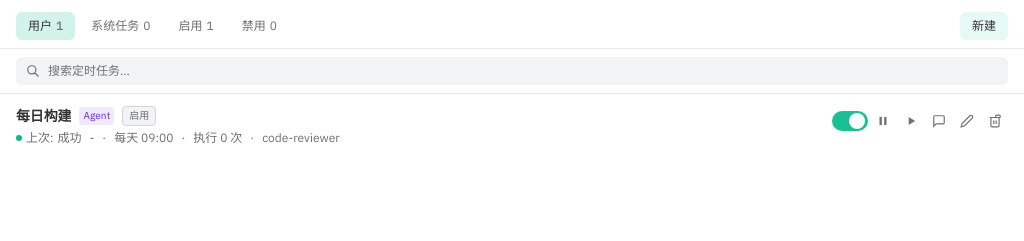
Test case: 空态引导 › 筛选后无结果：文案针对当前筛选维度，并给出清除筛选的出路
Click the button "禁用0" at point(259, 26), box [230,12,289,40]
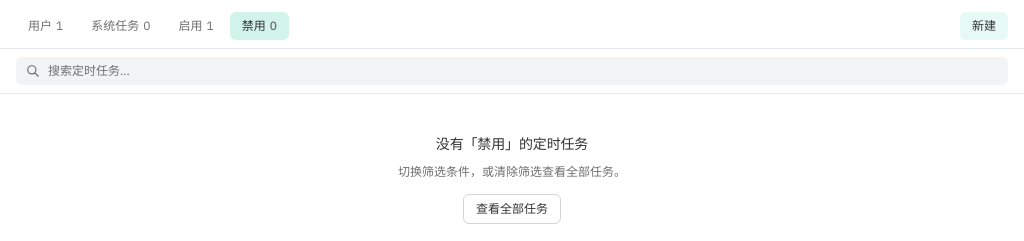
Now the text "没有「禁用」的定时任务" is shown, box [436,134,588,154]
Click the button "查看全部任务" at point(512, 208), box [463,194,561,224]
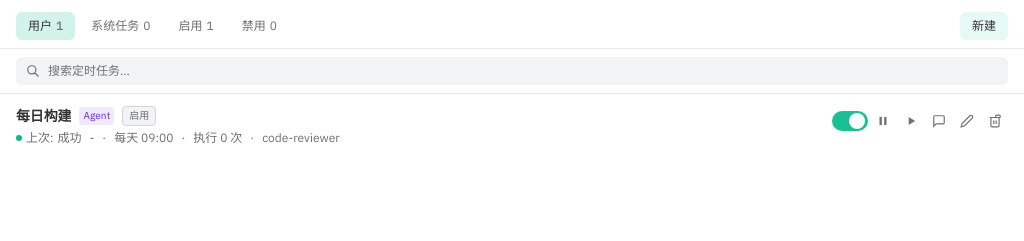
Now the text "每日构建" is shown, box [16,106,72,126]
